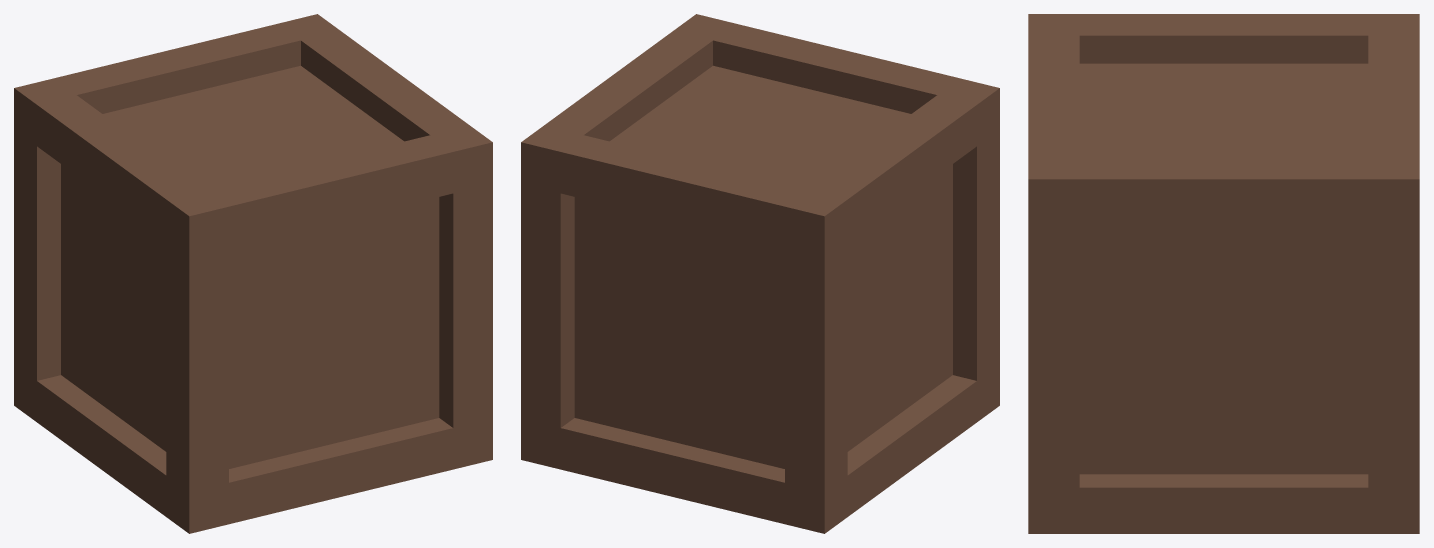
3 renders of one model, left to right at view 1: azimuth 30°, elevation 25°; view 2: azimuth 150°, elevation 25°; view 3: azimuth 270°, elevation 25°, orthographic. The views are drawn at different scales.
Parts seen in each view (by area): view 1: SM_Box.004; view 2: SM_Box.004; view 3: SM_Box.004.
Boxes of the visible parts, x1,y1,x2,y2 form: SM_Box.004: [14, 14, 492, 533]; SM_Box.004: [521, 14, 999, 533]; SM_Box.004: [1028, 14, 1419, 533].
Bounding box in the file's own units: 0.3001 × 0.3001 × 0.3001.
